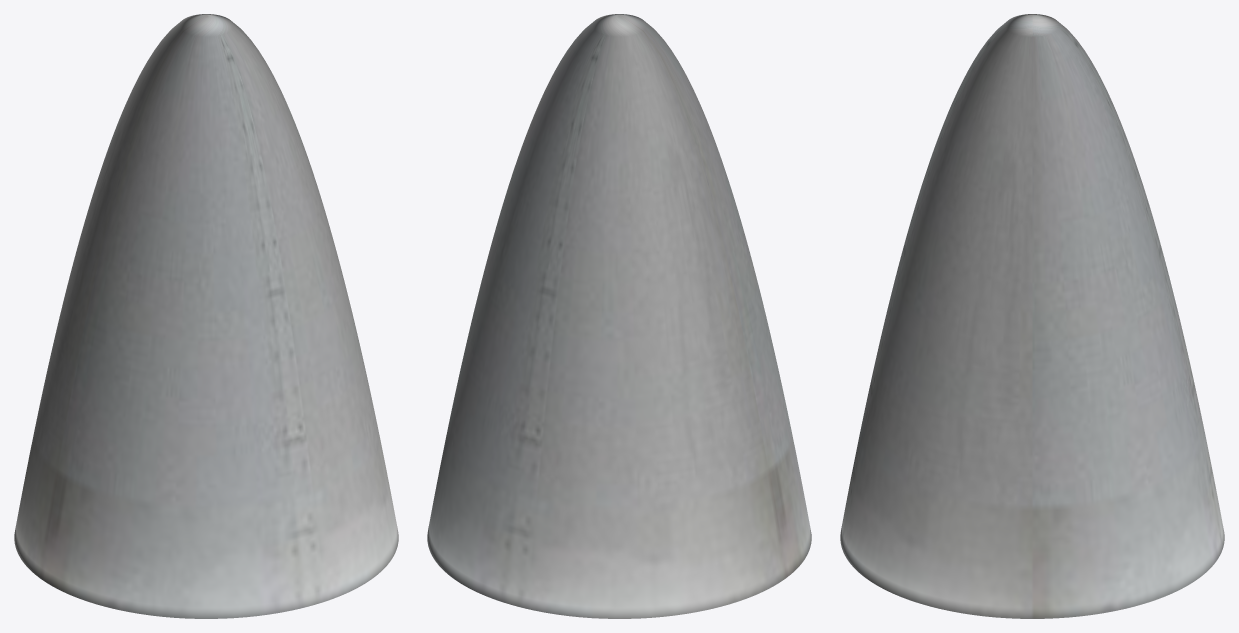
The model's file is mainTop.obj.
3 renders of one model, left to right at view 1: azimuth 30°, elevation 25°; view 2: azimuth 150°, elevation 25°; view 3: azimuth 270°, elevation 25°, orthographic.
Bounding box in the file's own units: 2 × 3 × 2.
Materials: 1 (1 with a texture image).
